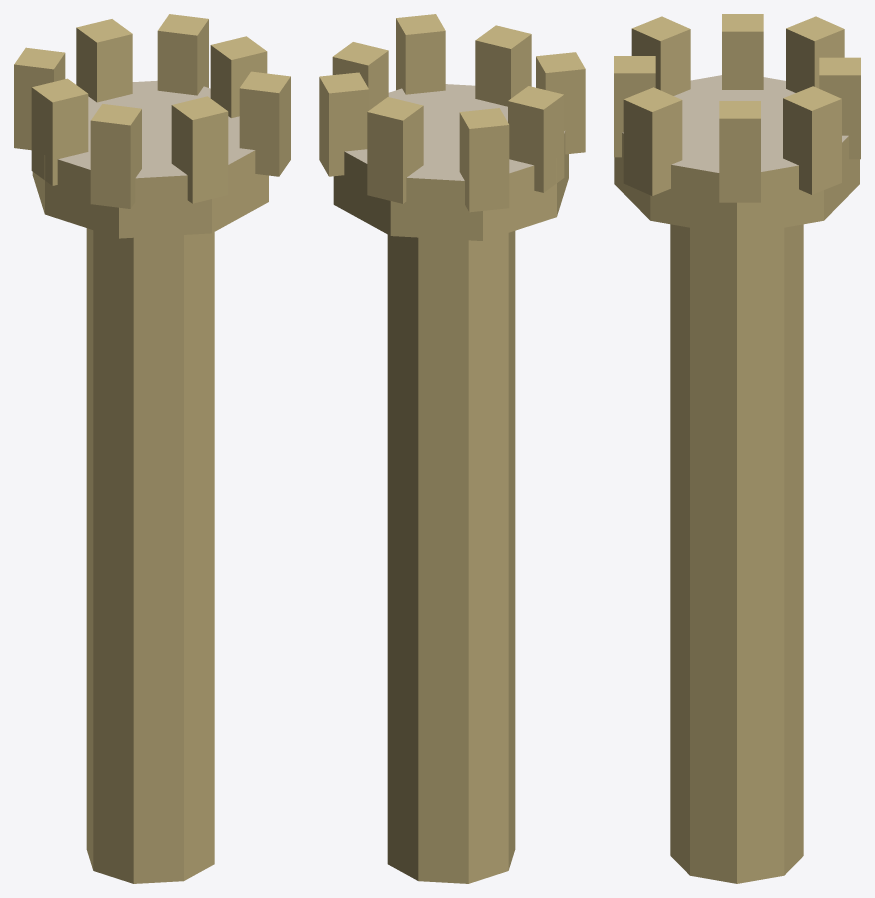
File: tower2.fbx
3 renders of one model, left to right at view 1: azimuth 30°, elevation 25°; view 2: azimuth 150°, elevation 25°; view 3: azimuth 270°, elevation 25°, orthographic.
Parts seen in each view (by area): view 1: Cube.004; view 2: Cube.004; view 3: Cube.004.
Boxes of the visible parts, x1=… form: Cube.004: x1=14, y1=14, x2=290, y2=883; Cube.004: x1=319, y1=14, x2=585, y2=883; Cube.004: x1=614, y1=14, x2=860, y2=883.
Size of the model in its own units: 373 by 1314 by 371.
